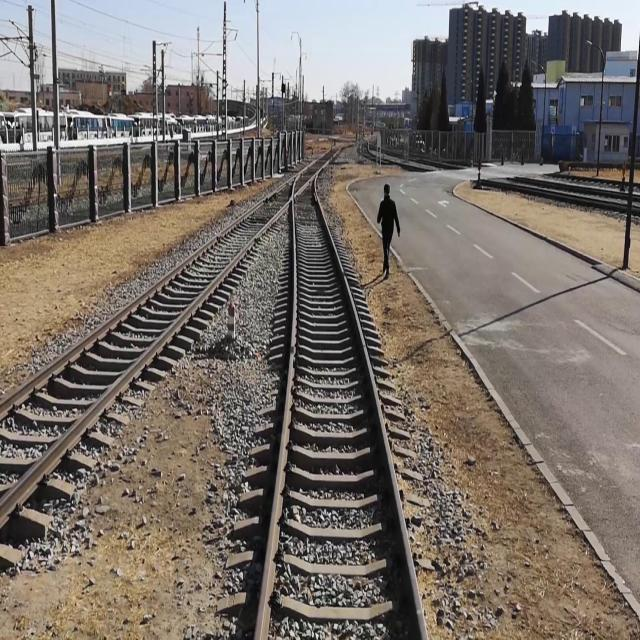rail: (1, 148, 343, 529), (1, 149, 333, 422), (315, 175, 429, 640), (255, 175, 302, 640)
